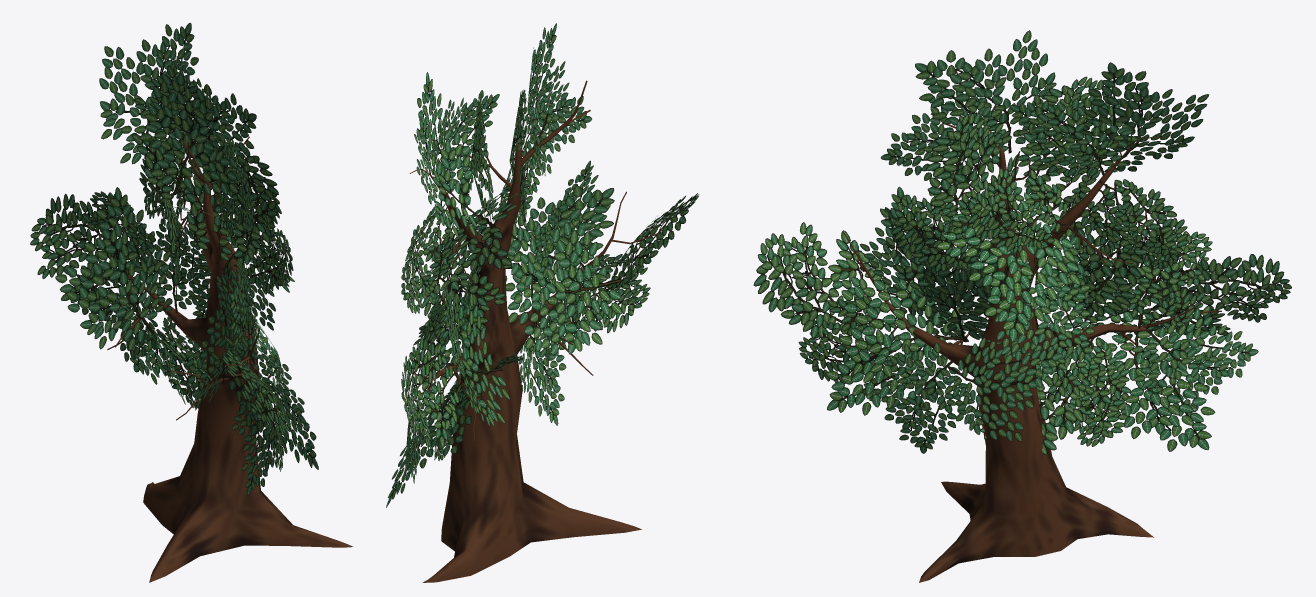
The model's file is arbol3bosque.fbx.
3 views of the same model, side by side, from view 1: azimuth 30°, elevation 25°; view 2: azimuth 150°, elevation 25°; view 3: azimuth 270°, elevation 25° (orthographic). The views are drawn at different scales.
Parts seen in each view (by area): view 1: tronco_Group3, hojasbosque_pPlane25, hojasbosque_pPlane27, hojasbosque_pPlane26, hojasbosque_pPlane31, hojasbosque_pPlane33, hojasbosque_pPlane24, hojasbosque_pPlane11, hojasbosque_pPlane30, hojasbosque_pPlane23, hojasbosque_pPlane17, hojasbosque_pPlane13 (+16 smaller); view 2: tronco_Group3, hojasbosque_pPlane23, hojasbosque_pPlane29, hojasbosque_pPlane26, hojasbosque_pPlane35, hojasbosque_pPlane33, hojasbosque_pPlane25, hojasbosque_pPlane13, hojasbosque_pPlane15, hojasbosque_pPlane10, hojasbosque_pPlane28, hojasbosque_pPlane20 (+14 smaller); view 3: tronco_Group3, hojasbosque_pPlane24, hojasbosque_pPlane34, hojasbosque_pPlane36, hojasbosque_pPlane28, hojasbosque_pPlane27, hojasbosque_pPlane26, hojasbosque_pPlane21, hojasbosque_pPlane12, hojasbosque_pPlane14, hojasbosque_pPlane16, hojasbosque_pPlane33 (+17 smaller).
Boxes of the visible parts, x1,y1,x2,y2 form: tronco_Group3: [143, 132, 353, 582]; hojasbosque_pPlane25: [55, 187, 170, 351]; hojasbosque_pPlane27: [139, 65, 256, 194]; hojasbosque_pPlane26: [99, 23, 198, 166]; hojasbosque_pPlane31: [186, 142, 278, 271]; hojasbosque_pPlane33: [30, 193, 122, 305]; hojasbosque_pPlane24: [210, 336, 318, 469]; hojasbosque_pPlane11: [129, 220, 209, 314]; hojasbosque_pPlane30: [132, 75, 219, 212]; hojasbosque_pPlane23: [185, 260, 243, 410]; hojasbosque_pPlane17: [230, 214, 293, 293]; hojasbosque_pPlane13: [202, 132, 255, 236]; tronco_Group3: [422, 143, 641, 582]; hojasbosque_pPlane23: [504, 217, 621, 354]; hojasbosque_pPlane29: [421, 219, 511, 342]; hojasbosque_pPlane26: [414, 72, 479, 237]; hojasbosque_pPlane35: [494, 185, 614, 327]; hojasbosque_pPlane33: [401, 336, 459, 449]; hojasbosque_pPlane25: [443, 286, 510, 426]; hojasbosque_pPlane13: [517, 61, 591, 173]; hojasbosque_pPlane15: [401, 203, 453, 313]; hojasbosque_pPlane10: [519, 296, 577, 425]; hojasbosque_pPlane28: [386, 368, 490, 507]; hojasbosque_pPlane20: [573, 253, 650, 333]; tronco_Group3: [884, 145, 1153, 582]; hojasbosque_pPlane24: [826, 278, 967, 415]; hojasbosque_pPlane34: [753, 222, 890, 338]; hojasbosque_pPlane36: [937, 191, 1080, 342]; hojasbosque_pPlane28: [1077, 311, 1215, 451]; hojasbosque_pPlane27: [915, 30, 1056, 153]; hojasbosque_pPlane26: [1071, 62, 1209, 172]; hojasbosque_pPlane21: [944, 337, 1062, 441]; hojasbosque_pPlane12: [1009, 79, 1137, 175]; hojasbosque_pPlane14: [1132, 306, 1258, 416]; hojasbosque_pPlane16: [968, 168, 1067, 254]; hojasbosque_pPlane33: [1150, 254, 1291, 335].
Size of the model in its own units: 4.48 by 10.73 by 10.9.
